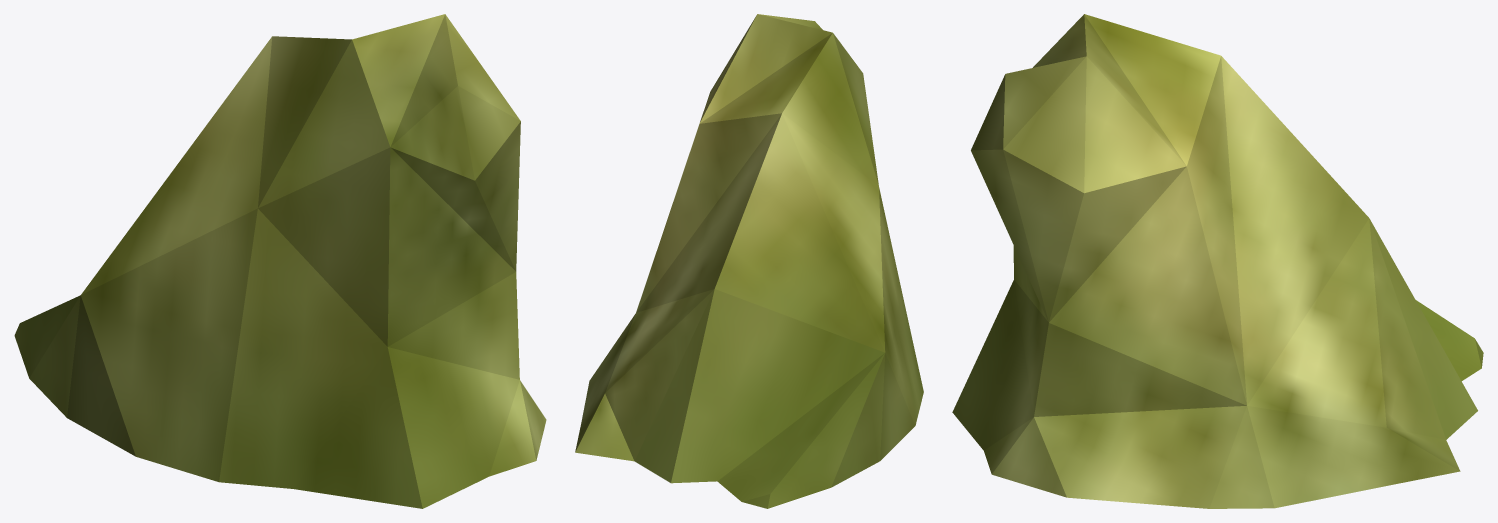
The picture shows the model from 3 angles, left to right: view 1: azimuth 30°, elevation 25°; view 2: azimuth 150°, elevation 25°; view 3: azimuth 270°, elevation 25°; orthographic projection. The views are drawn at different scales.
Bounding box in the file's own units: 0.2343 × 0.2463 × 0.297.
1 material, 1 textured.
